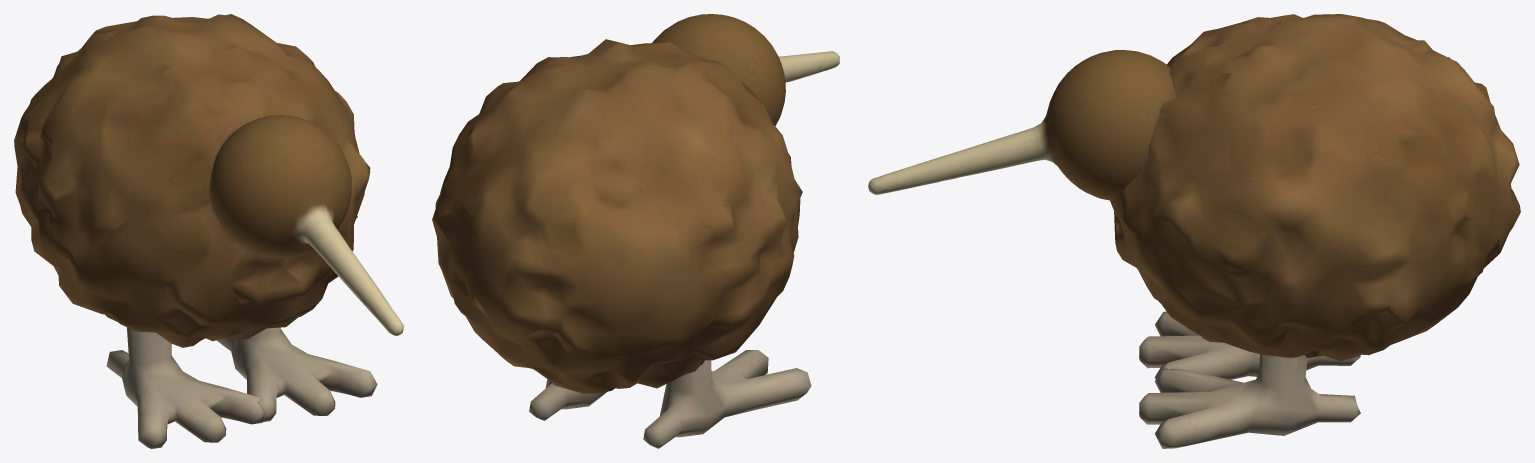
The model's file is animal_kiwi_bird.glb.
3 views of the same model, side by side, from view 1: azimuth 30°, elevation 25°; view 2: azimuth 150°, elevation 25°; view 3: azimuth 270°, elevation 25° (orthographic). The views are drawn at different scales.
Parts seen in each view (by area): view 1: animal_kiwi_bird, head, leg0, leg1; view 2: animal_kiwi_bird, leg0, head, leg1; view 3: animal_kiwi_bird, head, leg1, leg0.
Part boxes in pixels (x1,y1,x2,y2): animal_kiwi_bird: [14, 14, 370, 347]; head: [210, 115, 403, 335]; leg0: [106, 327, 264, 448]; leg1: [217, 327, 377, 422]; animal_kiwi_bird: [432, 39, 802, 393]; leg0: [643, 350, 811, 448]; head: [652, 14, 839, 125]; leg1: [529, 379, 607, 420]; animal_kiwi_bird: [1110, 14, 1520, 360]; head: [868, 50, 1176, 200]; leg1: [1139, 354, 1360, 448]; leg0: [1139, 311, 1360, 379].
Size of the model in its own units: 0.163 by 0.1852 by 0.2926.
1 material, 1 textured.
